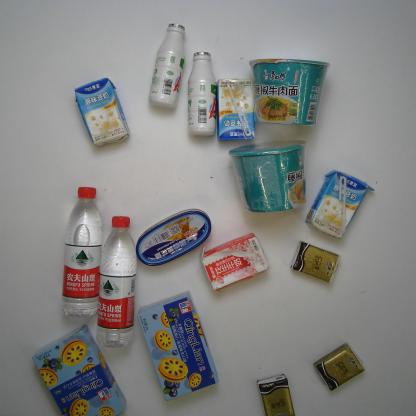Canned Food: (135, 207, 212, 266)
Dessert: (135, 290, 219, 403), (31, 323, 128, 416)
Drink: (94, 213, 138, 349), (60, 185, 104, 320)
Instant Noodles: (228, 138, 307, 214), (248, 57, 332, 127)
Milk: (304, 169, 376, 239), (199, 232, 269, 295), (74, 77, 131, 147), (146, 22, 186, 110), (187, 51, 218, 137), (216, 77, 256, 141)
Tissue: (312, 342, 366, 392), (290, 240, 342, 283), (255, 373, 296, 416)
